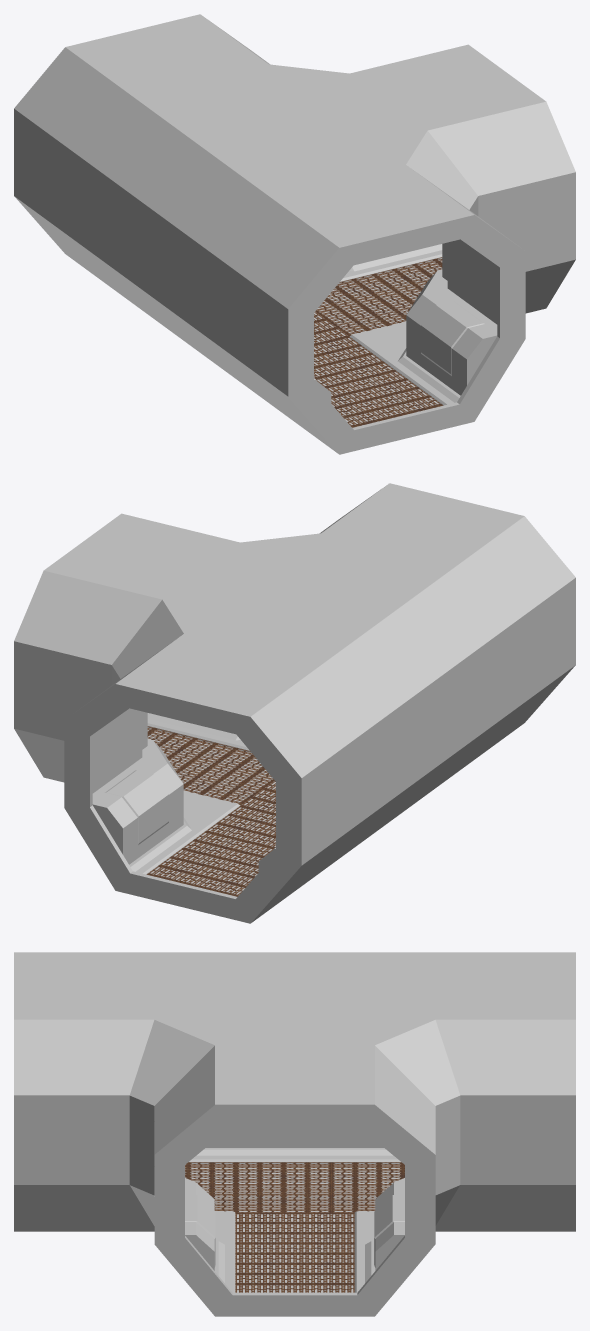
Rendered from Corridor_T.fbx.
The picture shows the model from 3 angles, top to bottom: view 1: azimuth 30°, elevation 25°; view 2: azimuth 150°, elevation 25°; view 3: azimuth 270°, elevation 25°; orthographic projection. The views are drawn at different scales.
Parts seen in each view (by area): view 1: Corridor_T; view 2: Corridor_T; view 3: Corridor_T.
Part boxes in pixels (x1,y1,x2,y2): Corridor_T: [14, 14, 575, 454]; Corridor_T: [14, 483, 575, 923]; Corridor_T: [14, 952, 575, 1316].
Size of what is drawn, in the model's own units: 600 by 333 by 800.
